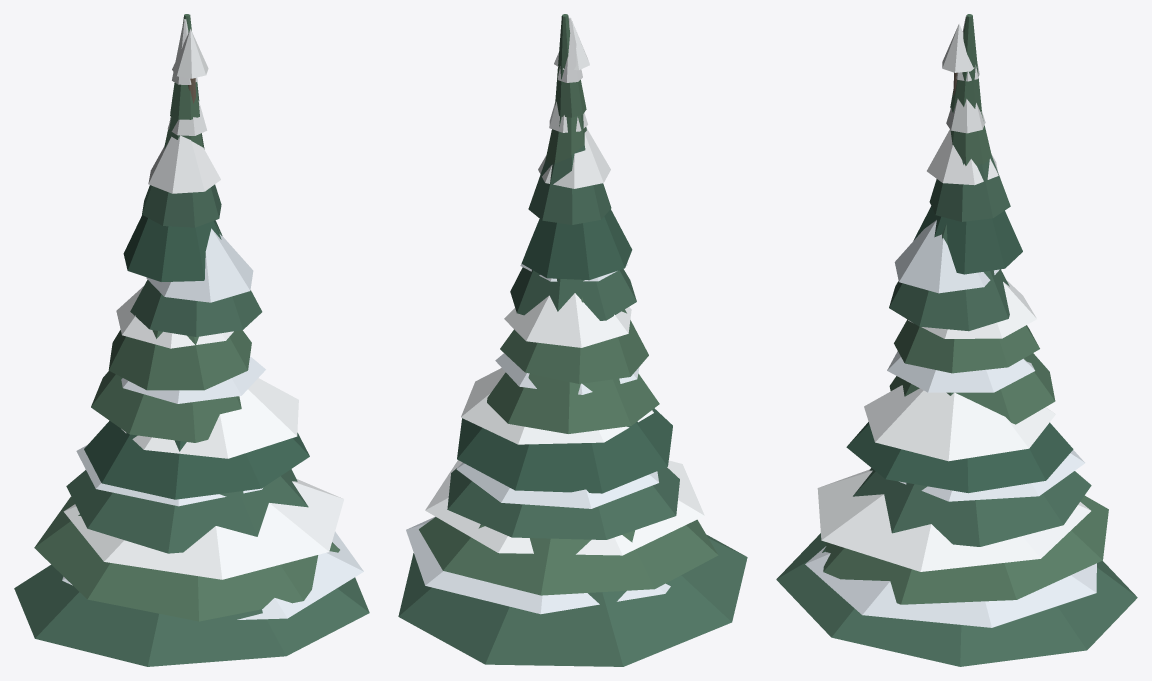
The model's file is SpruceSapling.glb.
3 renders of one model, left to right at view 1: azimuth 30°, elevation 25°; view 2: azimuth 150°, elevation 25°; view 3: azimuth 270°, elevation 25°, orthographic.
Parts seen in each view (by area): view 1: Spruce whorl.011, Spruce whorl.012, Snow load.009, Spruce whorl.013, Spruce whorl.014, Spruce whorl.016, Snow load.011, Spruce whorl.015, Spruce whorl.018, Spruce whorl.017, Snow load.014, Snow load.015 (+8 smaller); view 2: Spruce whorl.011, Spruce whorl.012, Spruce whorl.014, Spruce whorl.013, Spruce whorl.015, Spruce whorl.018, Spruce whorl.016, Snow load.009, Snow load.008, Snow load.013, Spruce whorl.017, Spruce whorl.019 (+7 smaller); view 3: Spruce whorl.011, Spruce whorl.012, Snow load.009, Snow load.011, Spruce whorl.013, Spruce whorl.014, Snow load.008, Spruce whorl.017, Spruce whorl.016, Spruce whorl.018, Snow load.014, Spruce whorl.015 (+9 smaller).
Boxes of the visible parts, x1=… form: Spruce whorl.011: x1=14, y1=564, x2=369, y2=666; Spruce whorl.012: x1=34, y1=496, x2=339, y2=621; Snow load.009: x1=63, y1=479, x2=343, y2=579; Spruce whorl.013: x1=66, y1=469, x2=308, y2=553; Spruce whorl.014: x1=84, y1=420, x2=309, y2=499; Spruce whorl.016: x1=108, y1=330, x2=251, y2=390; Snow load.011: x1=121, y1=378, x2=298, y2=458; Spruce whorl.015: x1=91, y1=371, x2=241, y2=442; Spruce whorl.018: x1=123, y1=215, x2=222, y2=281; Spruce whorl.017: x1=130, y1=223, x2=262, y2=336; Snow load.014: x1=146, y1=228, x2=253, y2=302; Snow load.015: x1=148, y1=135, x2=220, y2=193; Spruce whorl.011: x1=398, y1=534, x2=747, y2=666; Spruce whorl.012: x1=419, y1=517, x2=718, y2=595; Spruce whorl.014: x1=457, y1=408, x2=672, y2=493; Spruce whorl.013: x1=447, y1=467, x2=679, y2=539; Spruce whorl.015: x1=487, y1=372, x2=659, y2=433; Spruce whorl.018: x1=521, y1=209, x2=632, y2=280; Spruce whorl.016: x1=500, y1=296, x2=648, y2=383; Snow load.009: x1=425, y1=460, x2=704, y2=555; Snow load.008: x1=406, y1=516, x2=670, y2=614; Snow load.013: x1=504, y1=293, x2=631, y2=347; Spruce whorl.017: x1=510, y1=267, x2=636, y2=320; Spruce whorl.019: x1=528, y1=145, x2=611, y2=224; Spruce whorl.011: x1=776, y1=533, x2=1137, y2=666; Spruce whorl.012: x1=823, y1=495, x2=1108, y2=604; Snow load.009: x1=817, y1=469, x2=1090, y2=571; Snow load.011: x1=864, y1=385, x2=1055, y2=461; Spruce whorl.013: x1=853, y1=468, x2=1091, y2=546; Spruce whorl.014: x1=846, y1=422, x2=1073, y2=493; Snow load.008: x1=805, y1=546, x2=1096, y2=627; Spruce whorl.017: x1=889, y1=223, x2=1009, y2=331; Spruce whorl.016: x1=894, y1=319, x2=1039, y2=373; Spruce whorl.018: x1=913, y1=206, x2=1022, y2=274; Snow load.014: x1=894, y1=220, x2=999, y2=293; Spruce whorl.015: x1=889, y1=353, x2=1055, y2=424.
Size of the model in its own units: 2.53 by 4.6 by 2.52.
